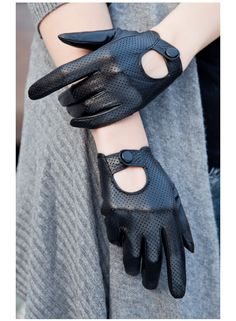gloves: (30, 28, 181, 135), (93, 152, 195, 298)
